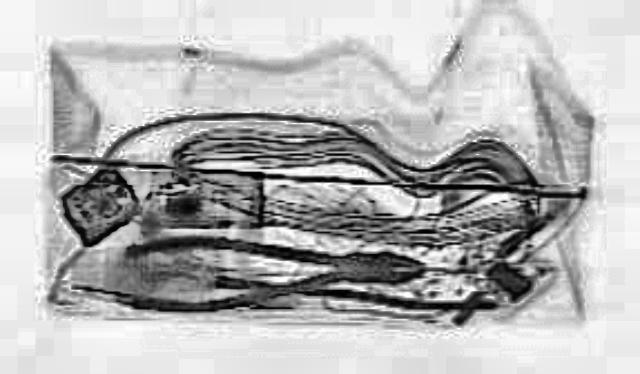Pliers: (120, 232, 422, 310)
